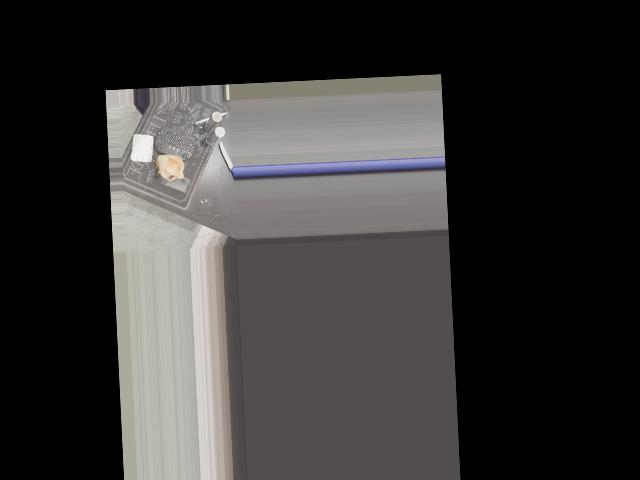onion: (155, 150, 186, 181)
